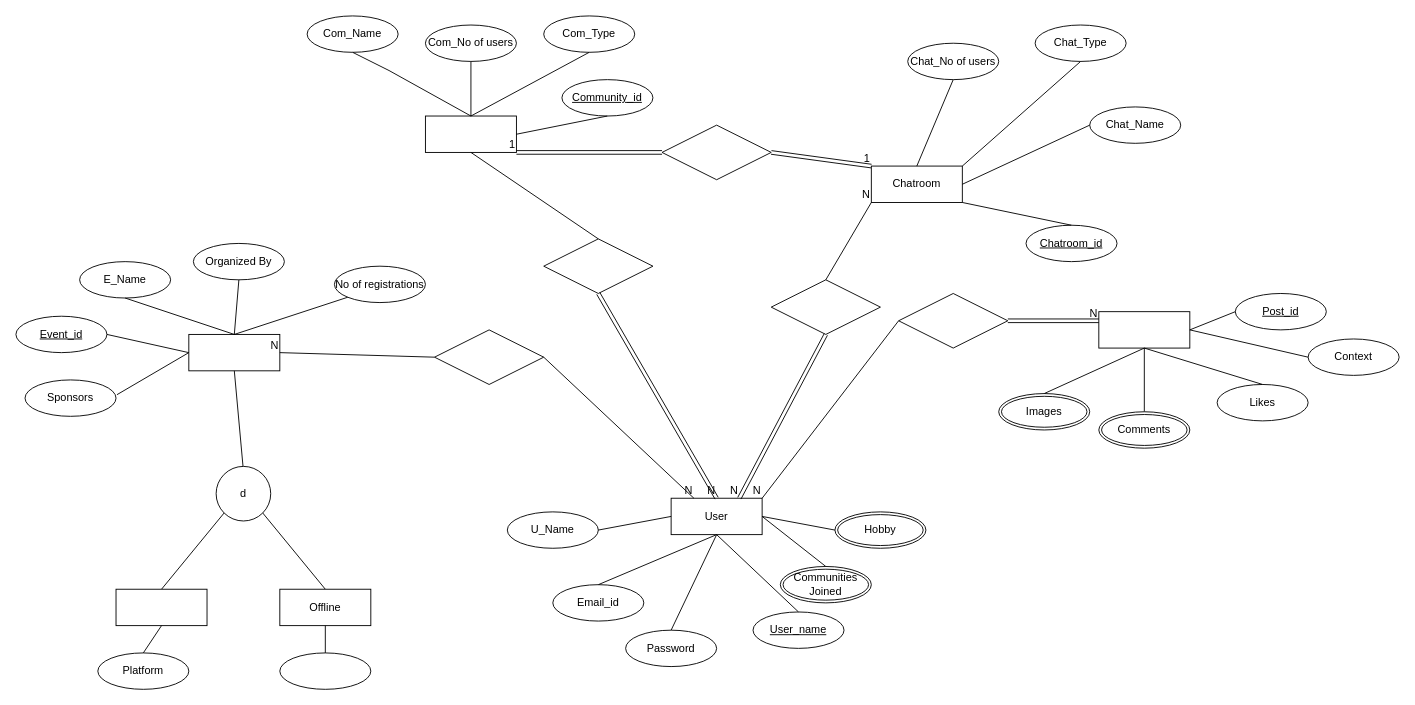
Image size: 1415x705. Some labels were removed from this diagram. The centre of each missing label's shape, as x and y in pixels:
"Action" belongs at (x=953, y=320).
"Community" belongs at (x=470, y=133).
"Engagement" belongs at (x=598, y=265).
"Enrollment" belongs at (x=489, y=356).
"Event" belongs at (x=234, y=352).
"Feature" belongs at (x=716, y=152).
"Interaction" belongs at (x=825, y=306).
"Location" belongs at (x=325, y=670).
"Online" belongs at (x=161, y=607).
"Post" belongs at (x=1144, y=329).
